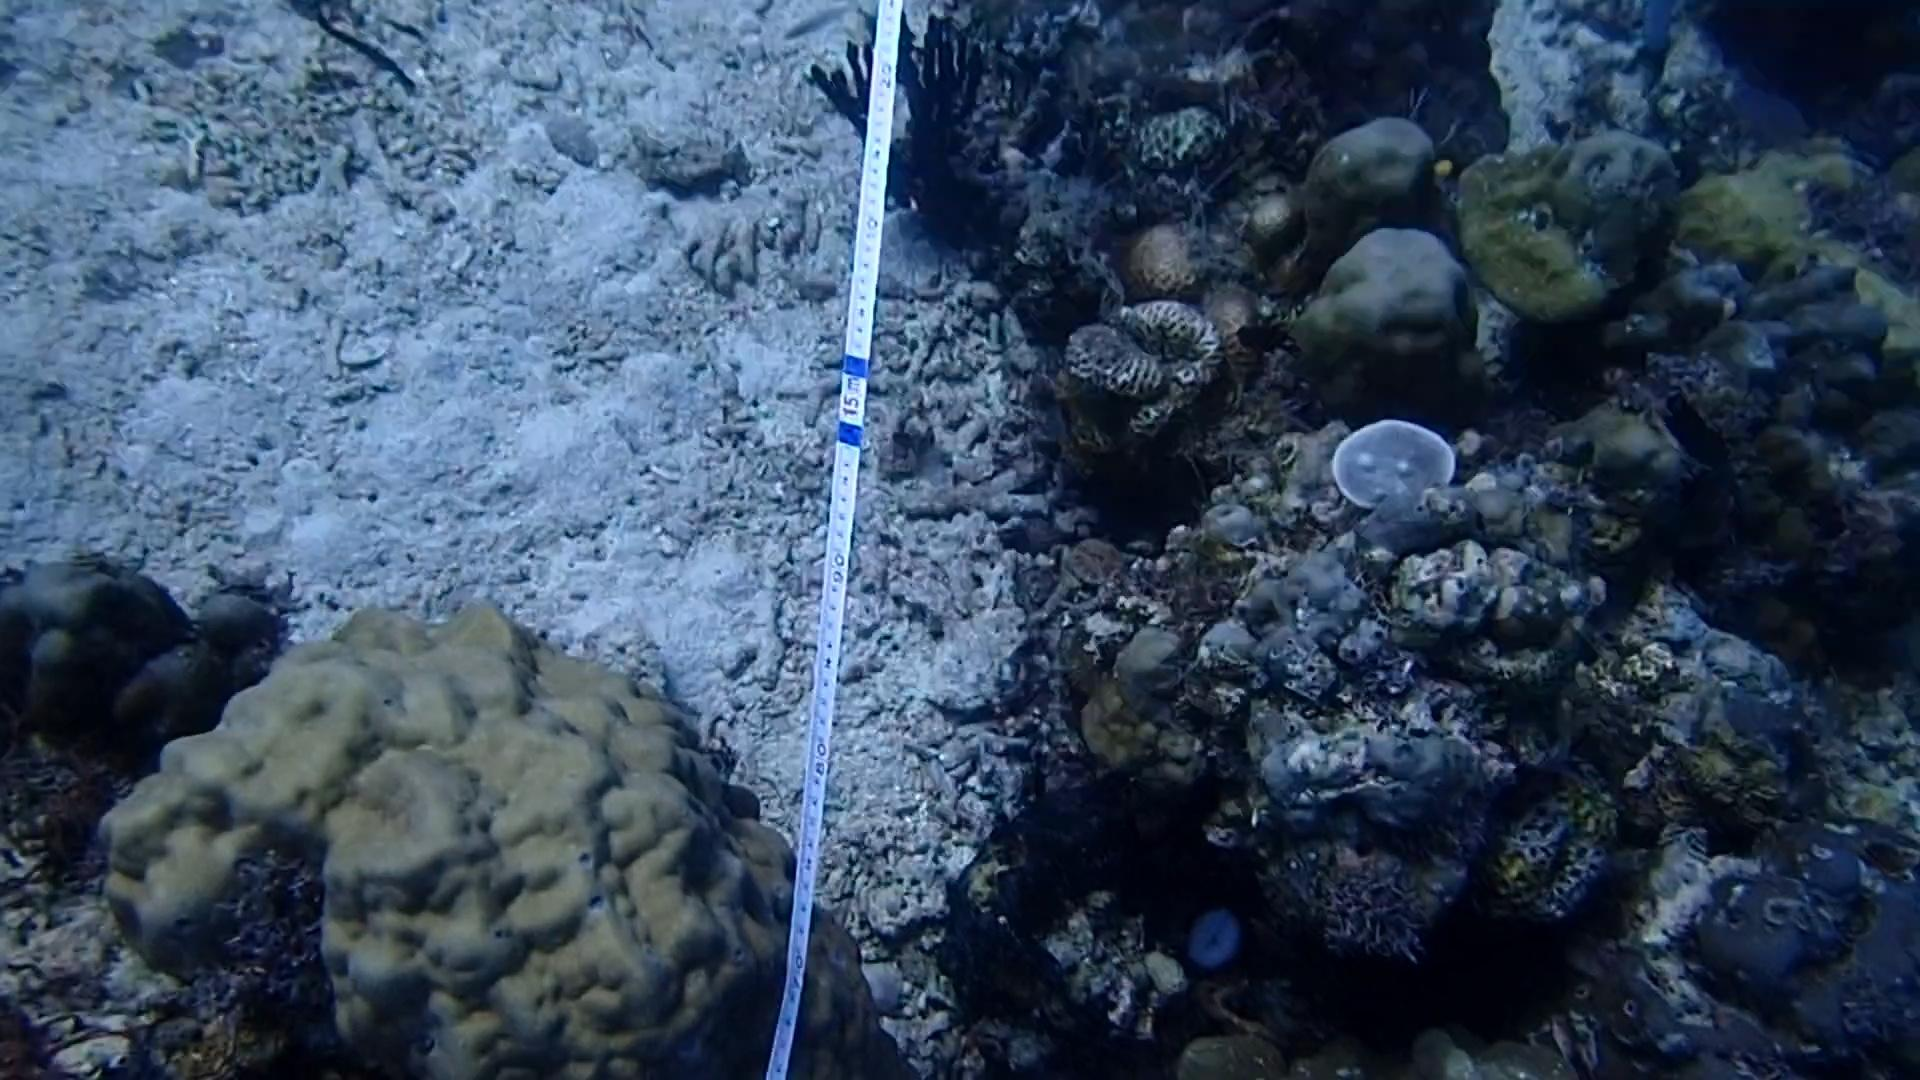Dark Fish: (1226, 306, 1300, 371)
